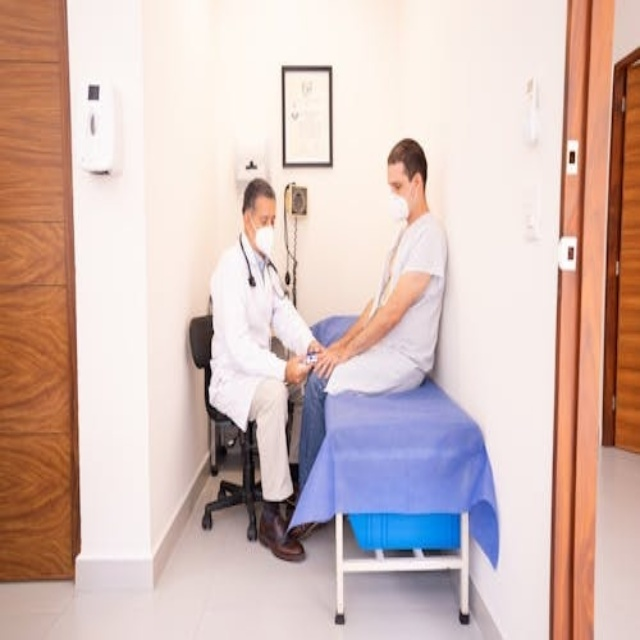Mascara: (250, 216, 275, 257), (387, 183, 412, 223)
Sin_gafas: (388, 167, 415, 192), (248, 206, 278, 225)
Sin_guantes: (312, 336, 351, 388), (285, 354, 311, 384)
